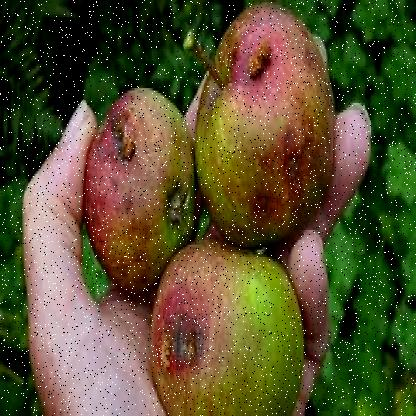damaged_apple: (195, 10, 339, 240), (149, 244, 302, 414), (84, 80, 191, 296)
